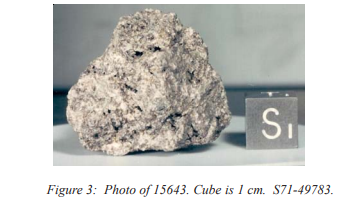Basalt: (74, 5, 234, 160)
